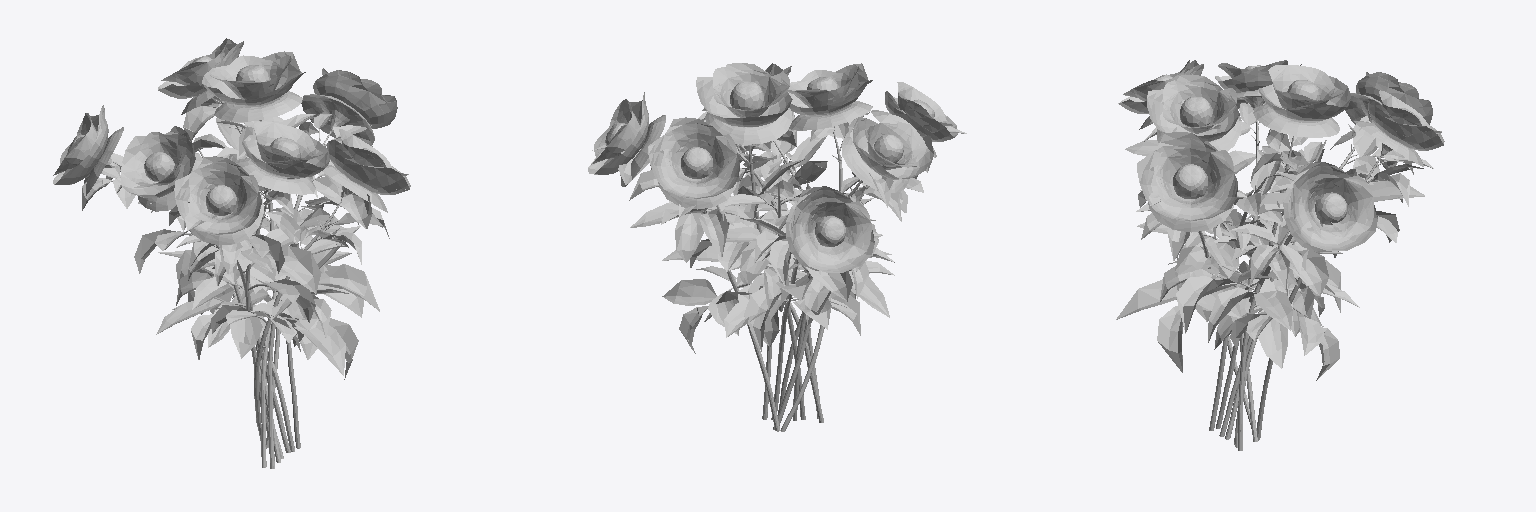
Rendered from Flowers.obj.
The picture shows the model from 3 angles: view 1: azimuth 30°, elevation 25°; view 2: azimuth 150°, elevation 25°; view 3: azimuth 270°, elevation 25°; orthographic projection.
Visible parts, largest first — view 1: LeavesSG, BranchesSG; view 2: LeavesSG, BranchesSG; view 3: LeavesSG, BranchesSG.
Boxes of the visible parts, <box> form: LeavesSG: <box>53,38,410,379</box>; BranchesSG: <box>120,121,341,468</box>; LeavesSG: <box>588,63,966,353</box>; BranchesSG: <box>702,132,868,431</box>; LeavesSG: <box>1116,60,1444,380</box>; BranchesSG: <box>1197,119,1381,450</box>.
Bounding box in the file's own units: 0.2956 × 0.3395 × 0.2768.